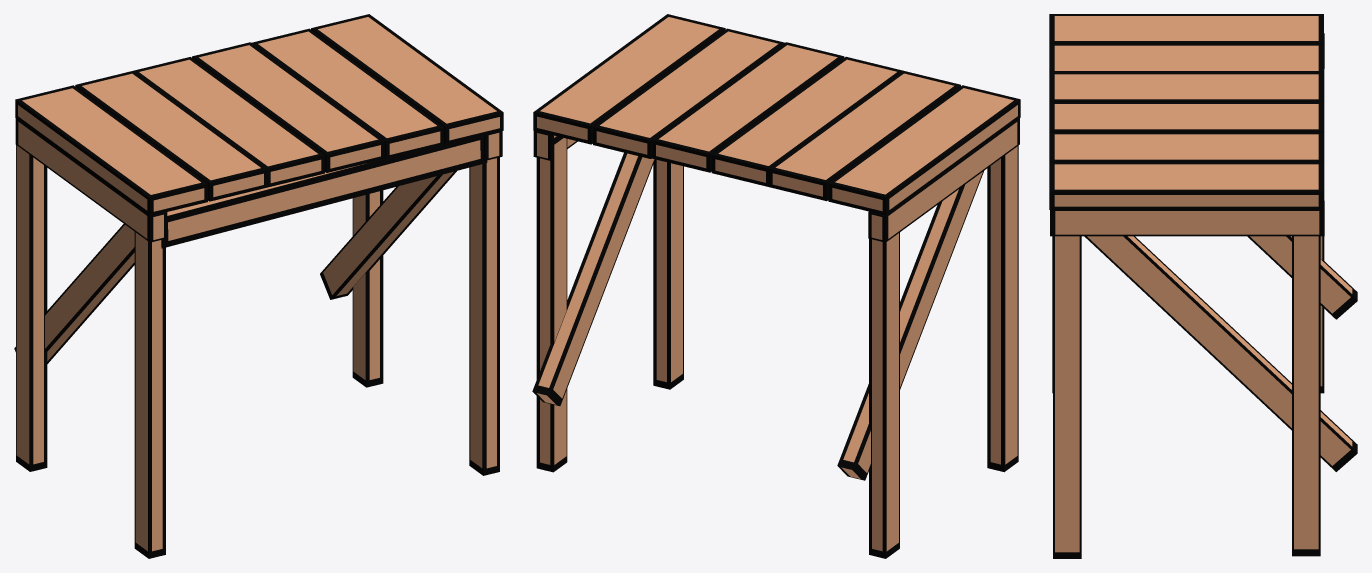
The model's file is CardboardPlatformBridge02.fbx.
3 renders of one model, left to right at view 1: azimuth 30°, elevation 25°; view 2: azimuth 150°, elevation 25°; view 3: azimuth 270°, elevation 25°, orthographic. The views are drawn at different scales.
Parts seen in each view (by area): view 1: Cube.037; view 2: Cube.037; view 3: Cube.037.
Boxes of the visible parts, x1,y1,x2,y2 form: Cube.037: (14,14,503,558); Cube.037: (532,14,1020,558); Cube.037: (1049,14,1357,558).
Size of the model in its own units: 1146 by 1121 by 846.
